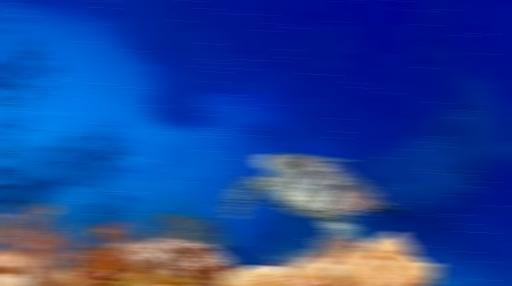Fish: (224, 153, 399, 237)
